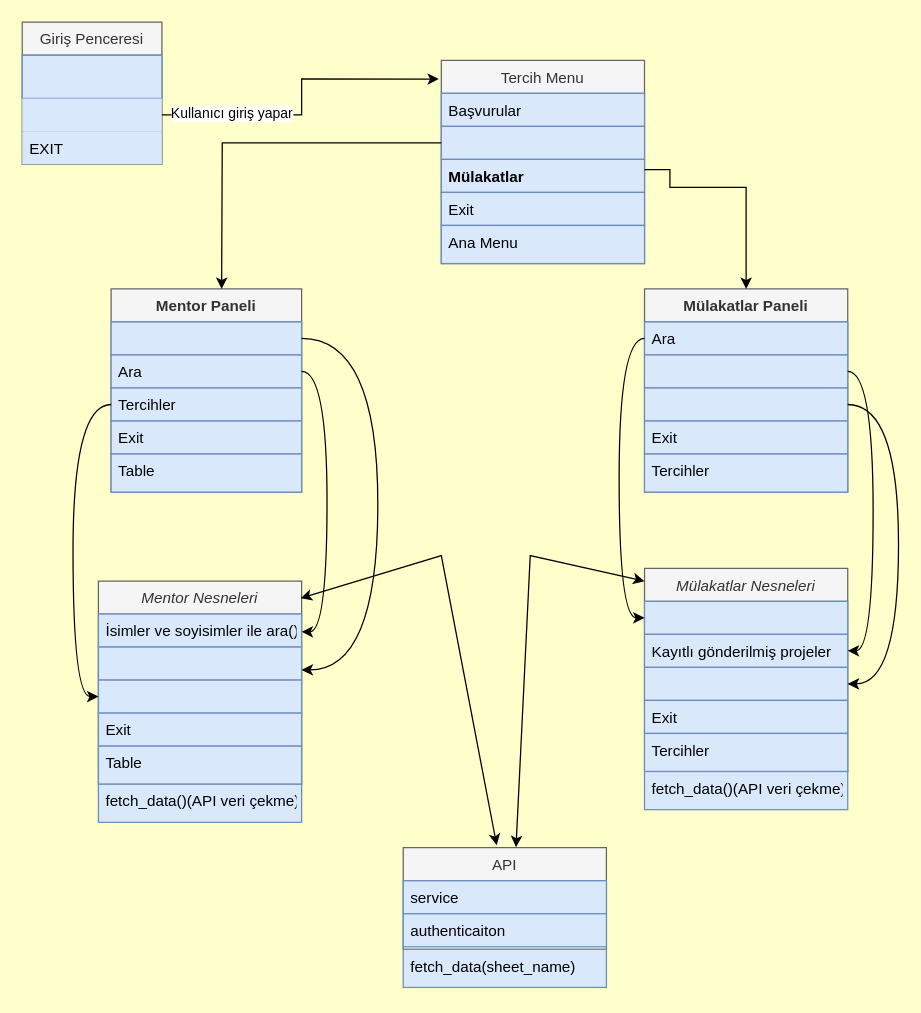
The diagram is 921 pixels wide and 1013 high, and some of its shapes have lost their labels. The shapes that lost their labels are listed below. From the top down, each one's centre as x and y in pixels, then its label:
At (91,76): "Username Password".
At (91,114): "Login".
At (542,142): "Mentor Görüşmesi".
At (206,338): "Tüm Görüşmeler".
At (745,371): "Projesi gönderilmiş olanlar".
At (745,404): "Projesi gelmiş olanlar".
At (745,617): "İsimler ve soyisimler ile ara".
At (199,663): "Kayıtlı tüm görüşmeler".
At (745,683): "Kayıtlı gelmiş Projeler".
At (199,696): "Tercihler ekranına dönüş".
